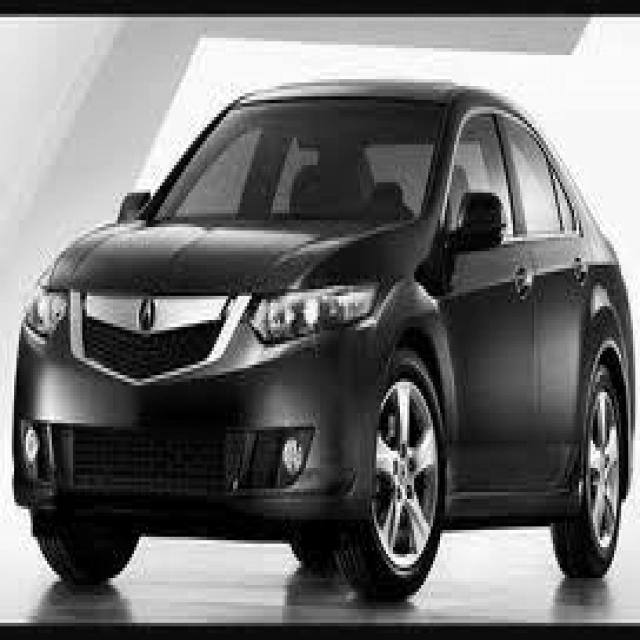car: (9, 76, 636, 598)
